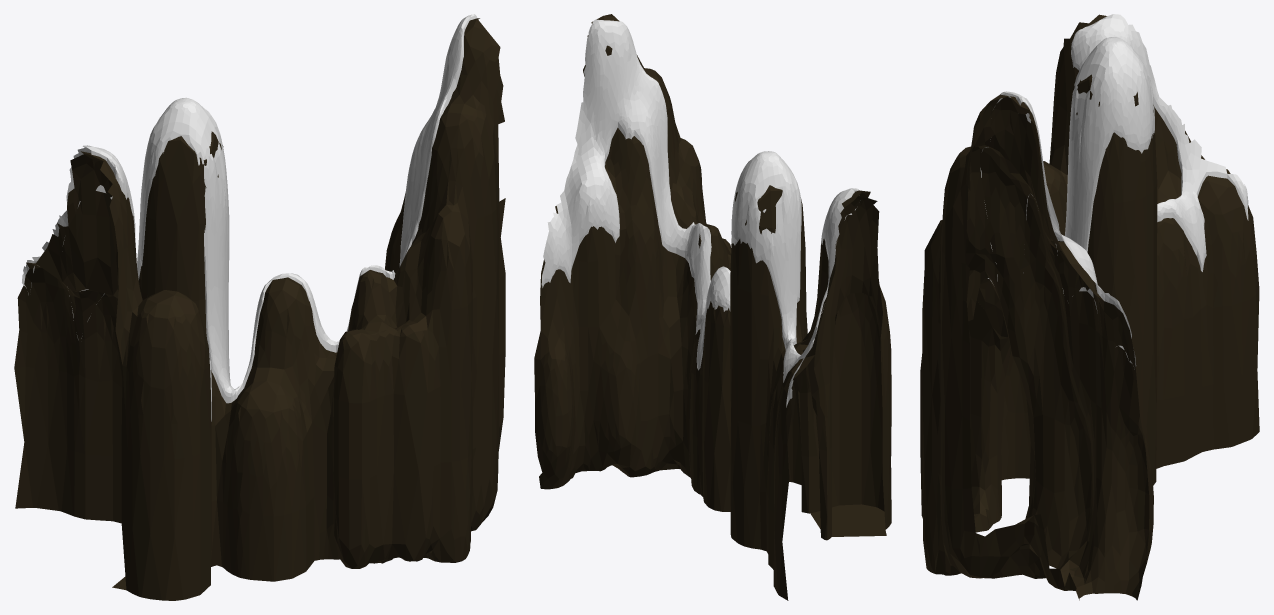
Rendered from Mtn_Corner_NE.fbx.
The picture shows the model from 3 angles, left to right: view 1: azimuth 30°, elevation 25°; view 2: azimuth 150°, elevation 25°; view 3: azimuth 270°, elevation 25°; orthographic projection. The views are drawn at different scales.
Parts seen in each view (by area): view 1: Mtn_Corner_NE; view 2: Mtn_Corner_NE; view 3: Mtn_Corner_NE.
Part boxes in pixels (x1,y1,x2,y2): Mtn_Corner_NE: (14, 14, 505, 600); Mtn_Corner_NE: (534, 14, 891, 600); Mtn_Corner_NE: (920, 14, 1259, 600).
Bounding box in the file's own units: 16287 × 21673 × 13314.
